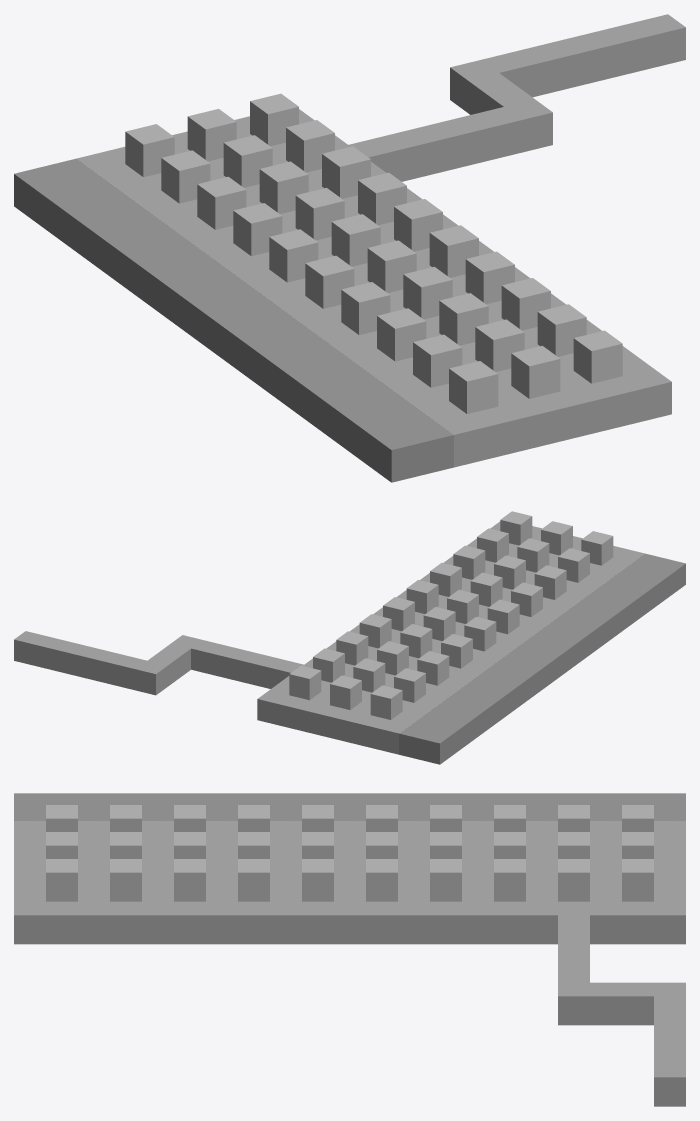
Rendered from keyboard.fbx.
3 views of the same model, one above another, from view 1: azimuth 30°, elevation 25°; view 2: azimuth 150°, elevation 25°; view 3: azimuth 270°, elevation 25° (orthographic). The views are drawn at different scales.
Visible parts, largest first — view 1: keyboard; view 2: keyboard; view 3: keyboard.
Boxes of the visible parts, <box> form: keyboard: <box>14,14,685,482</box>; keyboard: <box>14,511,685,764</box>; keyboard: <box>14,793,685,1106</box>.
Bounding box in the file's own units: 21 × 2 × 21.
